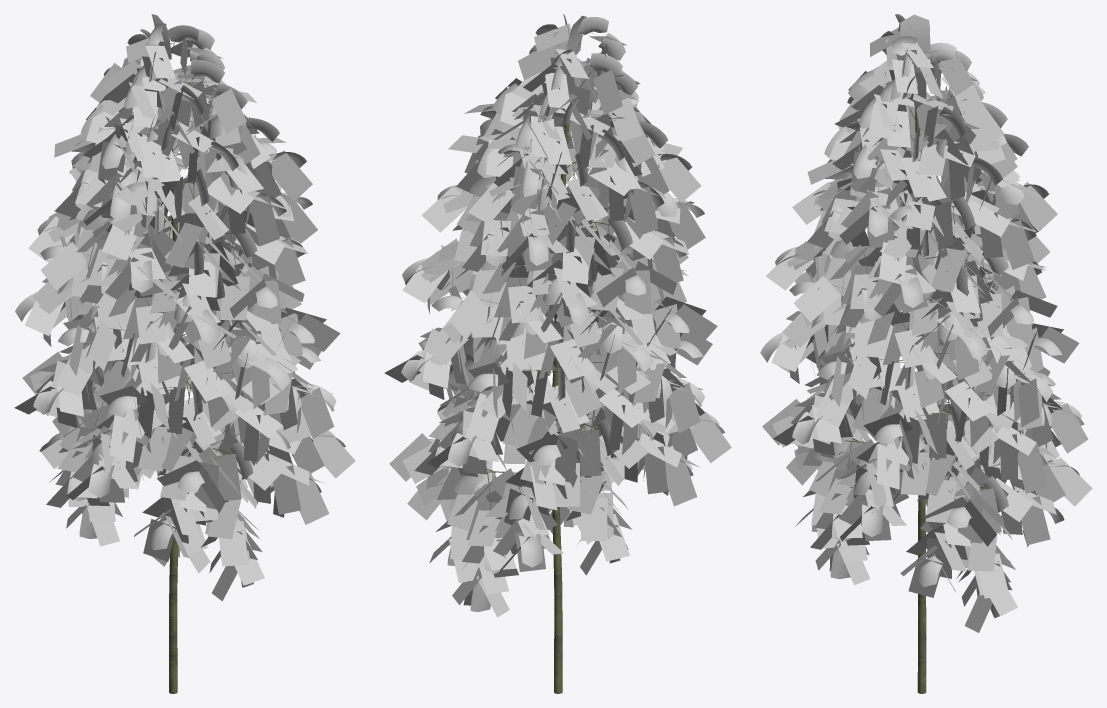
The model's file is MESH_JA14_PhyllostachysNigraHenonis_Y_LOD0.fbx.
3 renders of one model, left to right at view 1: azimuth 30°, elevation 25°; view 2: azimuth 150°, elevation 25°; view 3: azimuth 270°, elevation 25°, orthographic. The views are drawn at different scales.
Visible parts, largest first — view 1: MI_LOD0_001, MI_LOD0; view 2: MI_LOD0_001, MI_LOD0; view 3: MI_LOD0_001, MI_LOD0.
Boxes of the visible parts, x1,y1,x2,y2 form: MI_LOD0_001: (14,14,355,601); MI_LOD0: (83,35,298,693); MI_LOD0_001: (384,14,731,617); MI_LOD0: (431,29,681,693); MI_LOD0_001: (760,14,1092,632); MI_LOD0: (835,52,1055,693).
Size of the model in its own units: 182 by 400 by 181.
